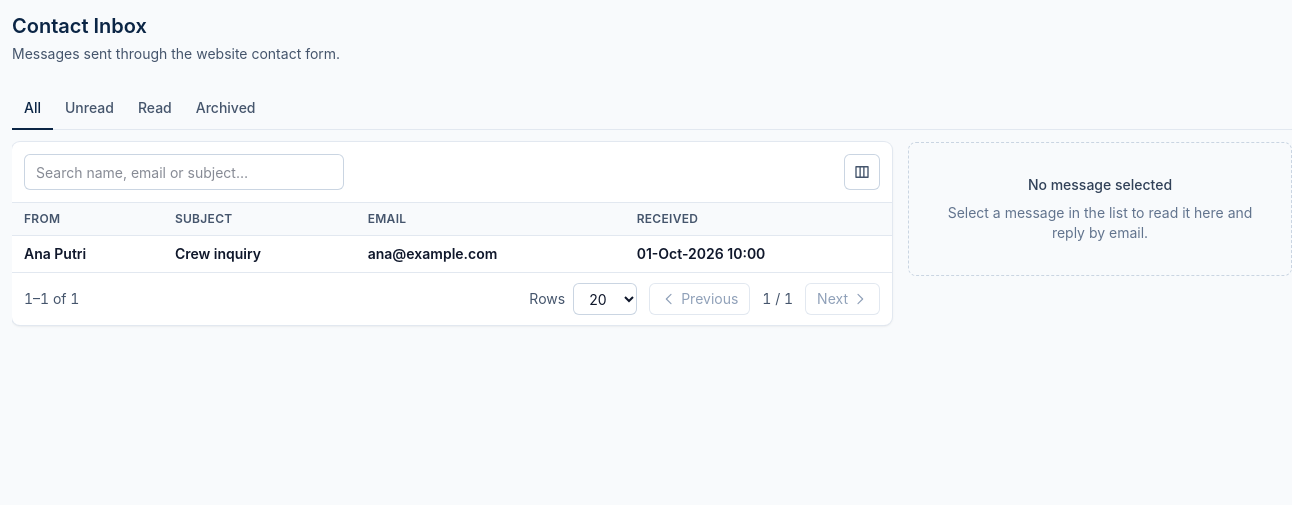
Test: ContactInboxPage › marks an unread message as read when it is opened
Click the text "Ana Putri": (55, 254) left=24, top=245, right=86, bottom=262
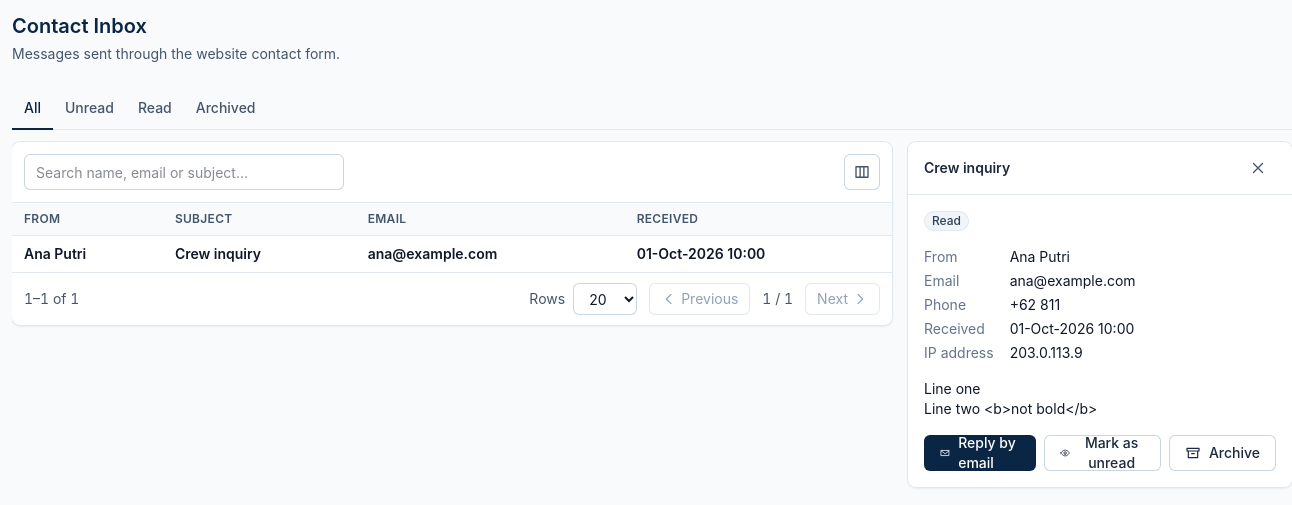
Result: the button "Mark as unread" is shown at left=1044, top=435, right=1161, bottom=471
